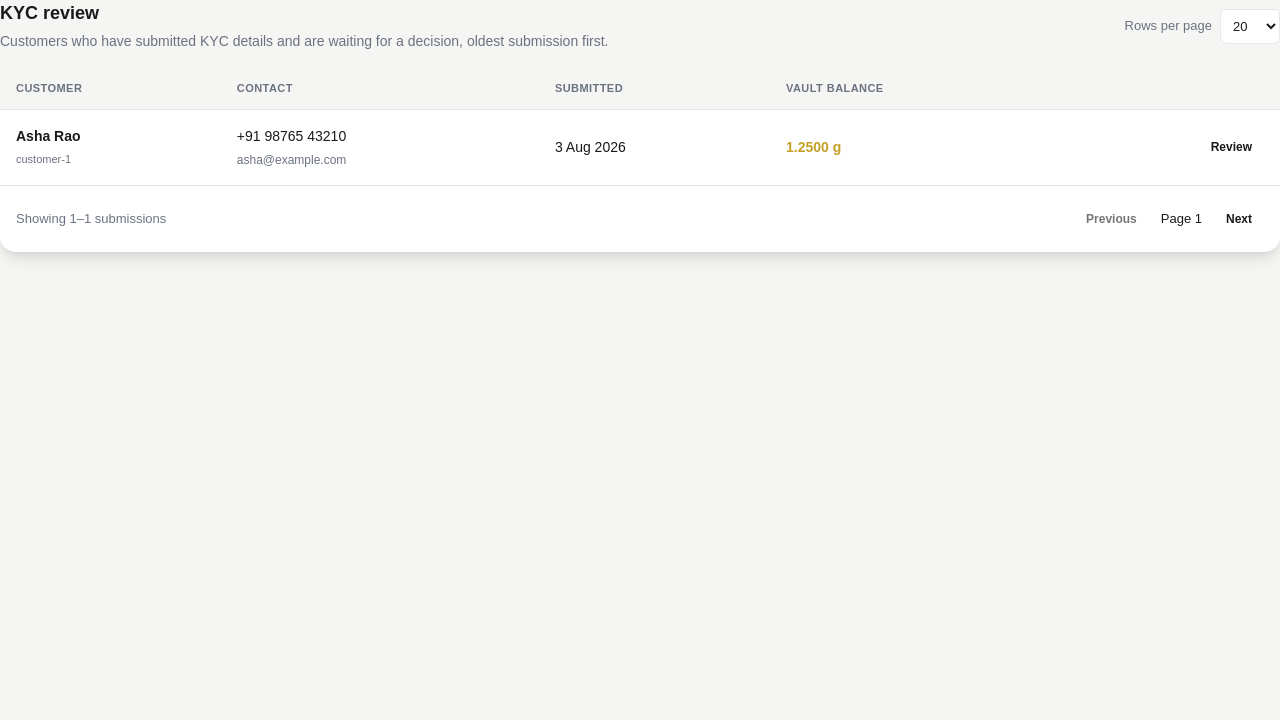
Scenario: KYC review queue › keeps the dialog open with the error when the request fails
Click the button with aria-label "Review KYC for Asha Rao" at coordinates (1231, 147), box x1=1199 y1=127 x2=1264 y2=167
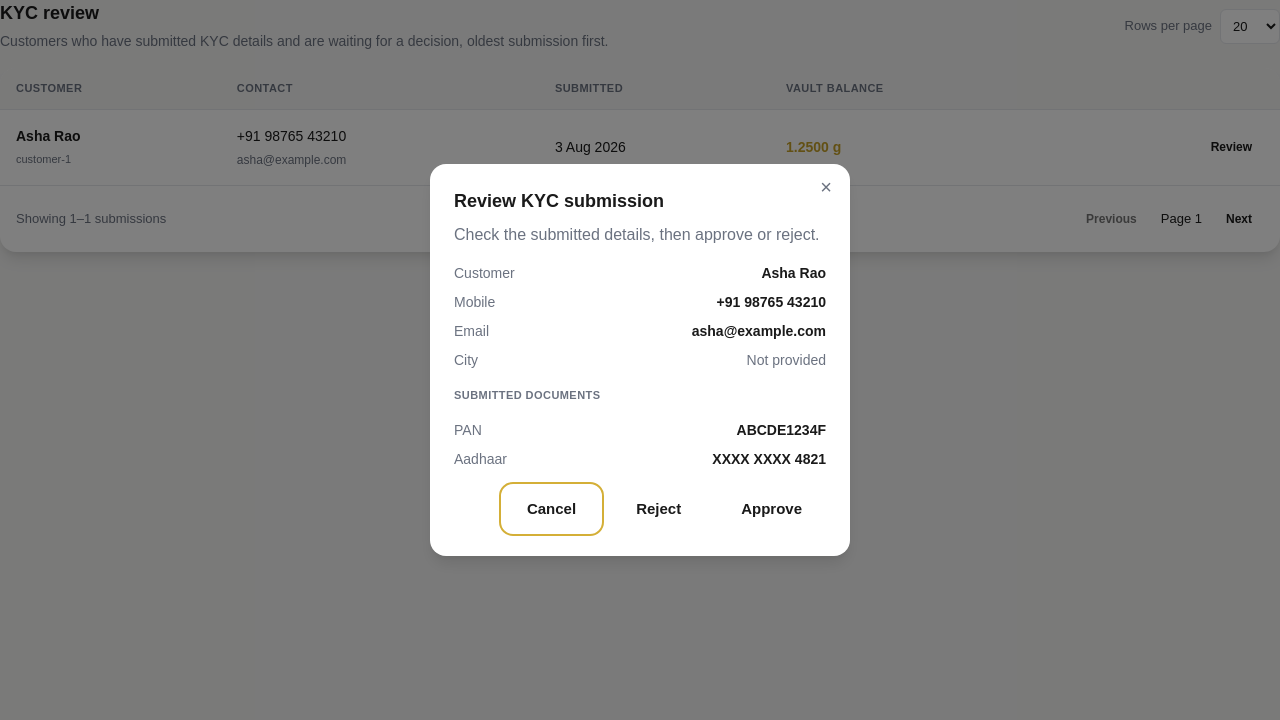
Click the button "Approve" at coordinates (772, 509), box x1=717 y1=486 x2=826 y2=532
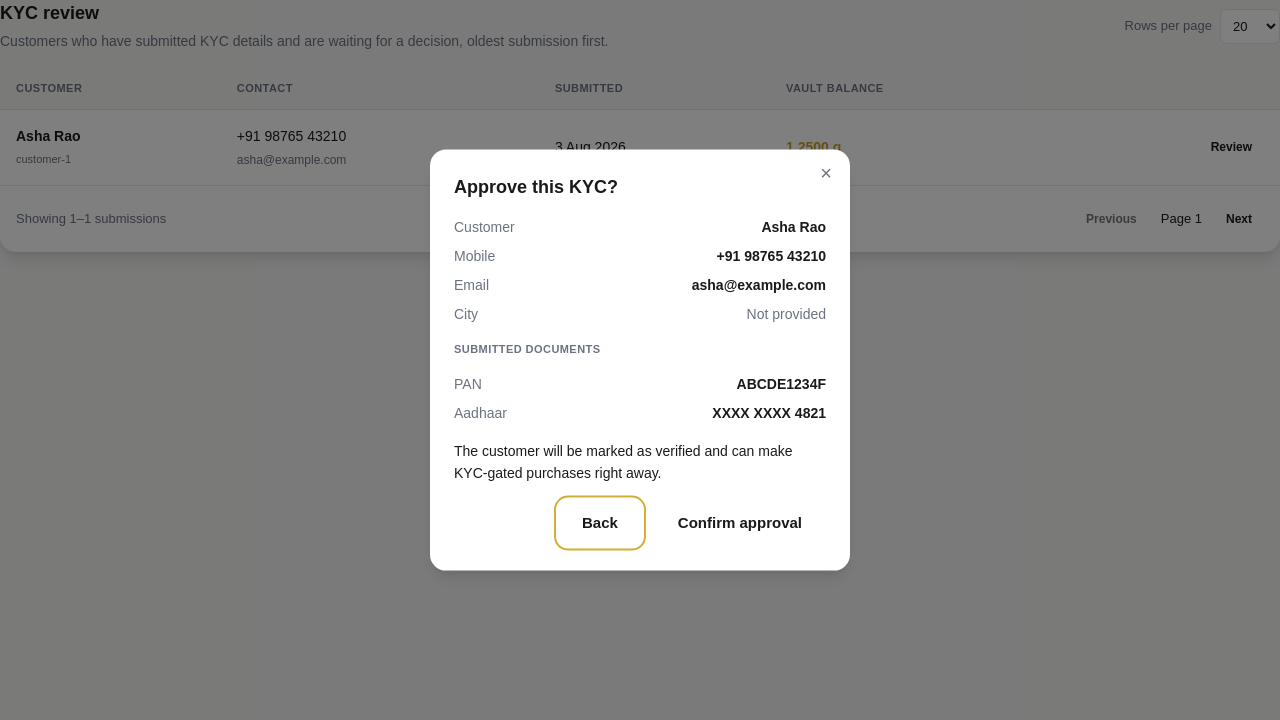
Click the button "Confirm approval" at coordinates (740, 523), box x1=654 y1=500 x2=826 y2=546
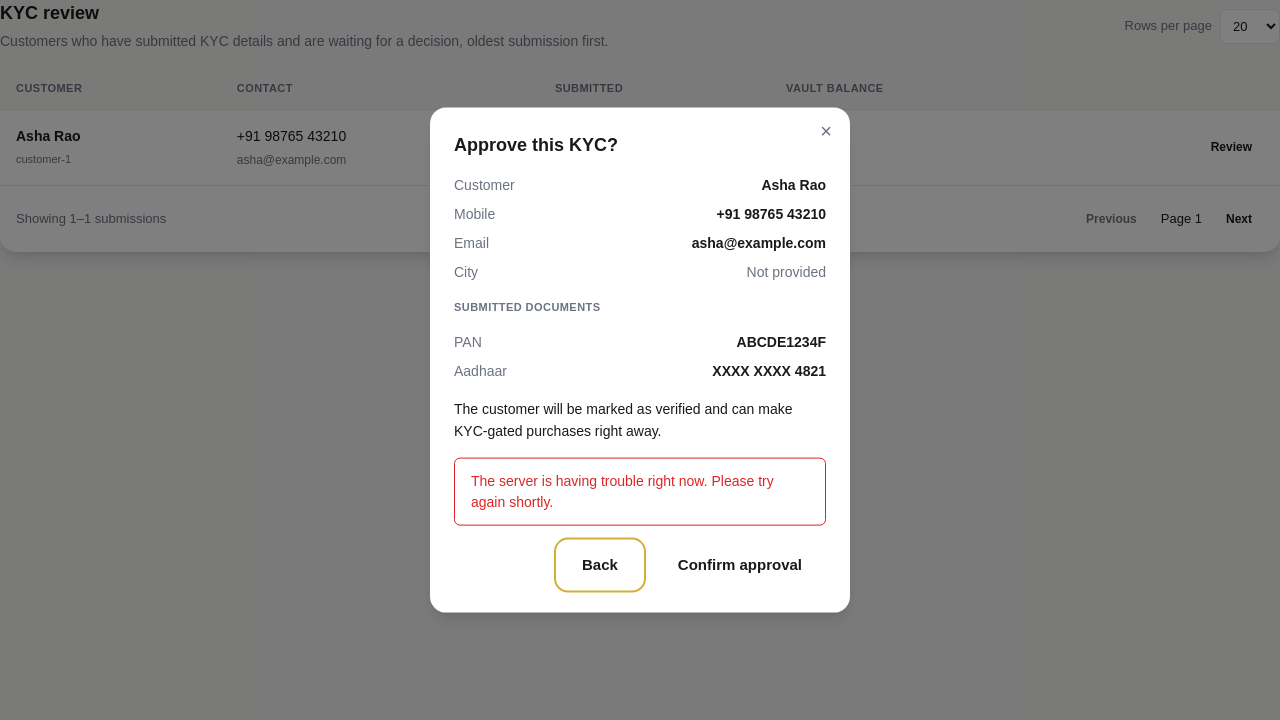
Result: the dialog is shown at x1=430 y1=108 x2=850 y2=612
Result: the message shows "The server is having trouble right now" at x1=471 y1=473 x2=774 y2=510
